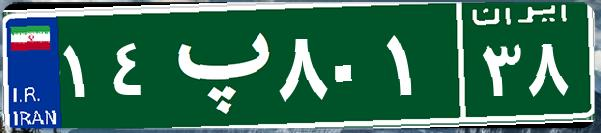0: (330, 28, 385, 110)
1: (385, 28, 445, 110), (57, 26, 110, 107)
3: (475, 38, 525, 113)
4: (110, 28, 158, 105)
8: (273, 28, 330, 110), (525, 38, 570, 115)
پ: (158, 15, 273, 115)
